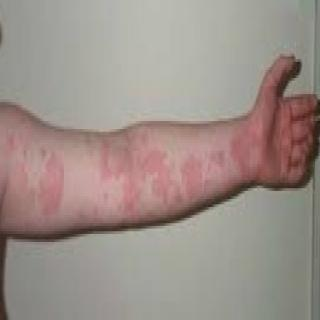urticaria: (17, 158, 216, 196)
